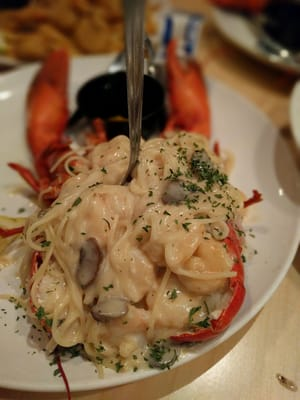pizza: (27, 48, 70, 159)
